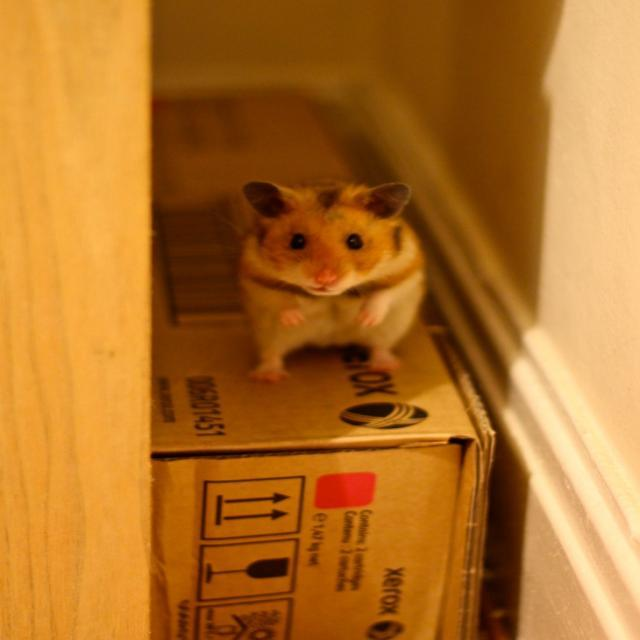rat: (237, 181, 426, 385)
